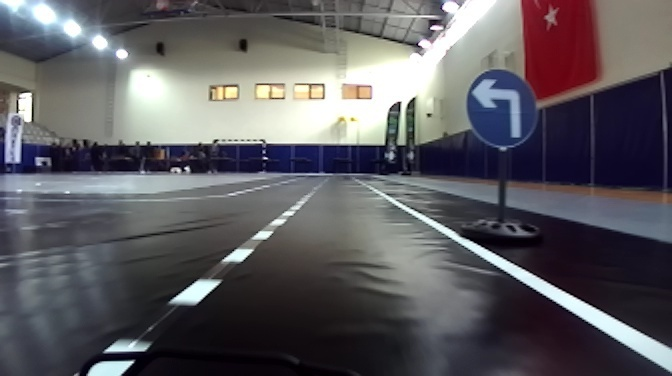sola_donus: (467, 64, 538, 149)
